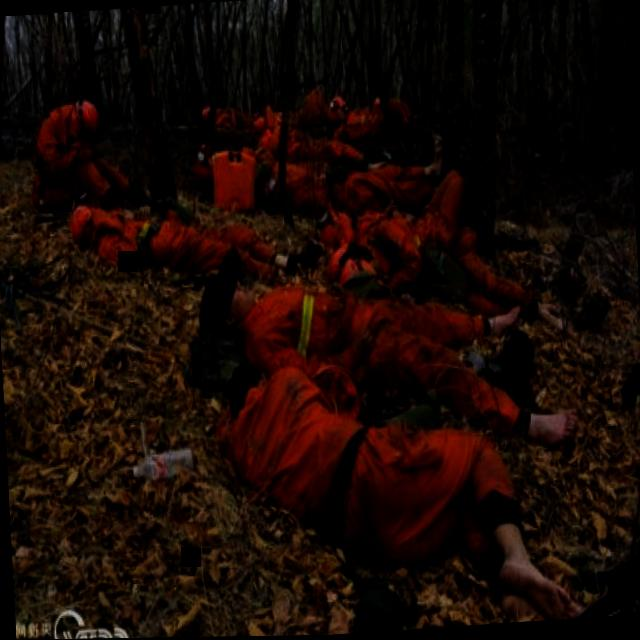Fall-Detected: (335, 155, 529, 321)
